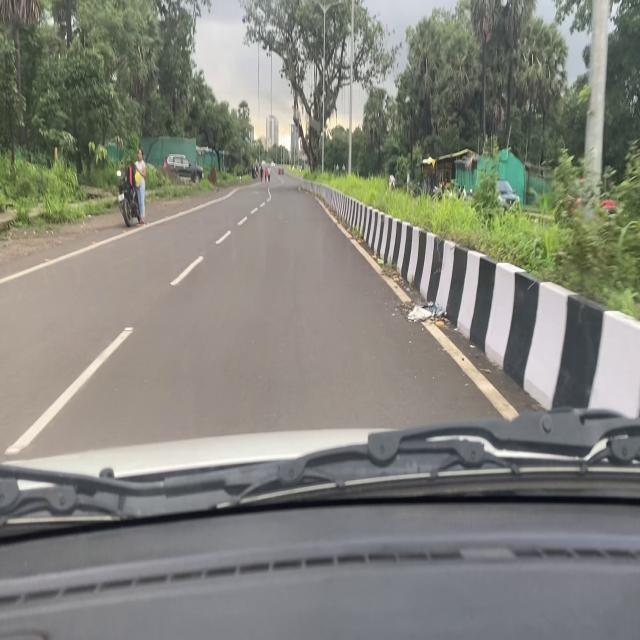lane: (9, 189, 273, 460), (307, 184, 517, 424), (1, 183, 242, 289)
